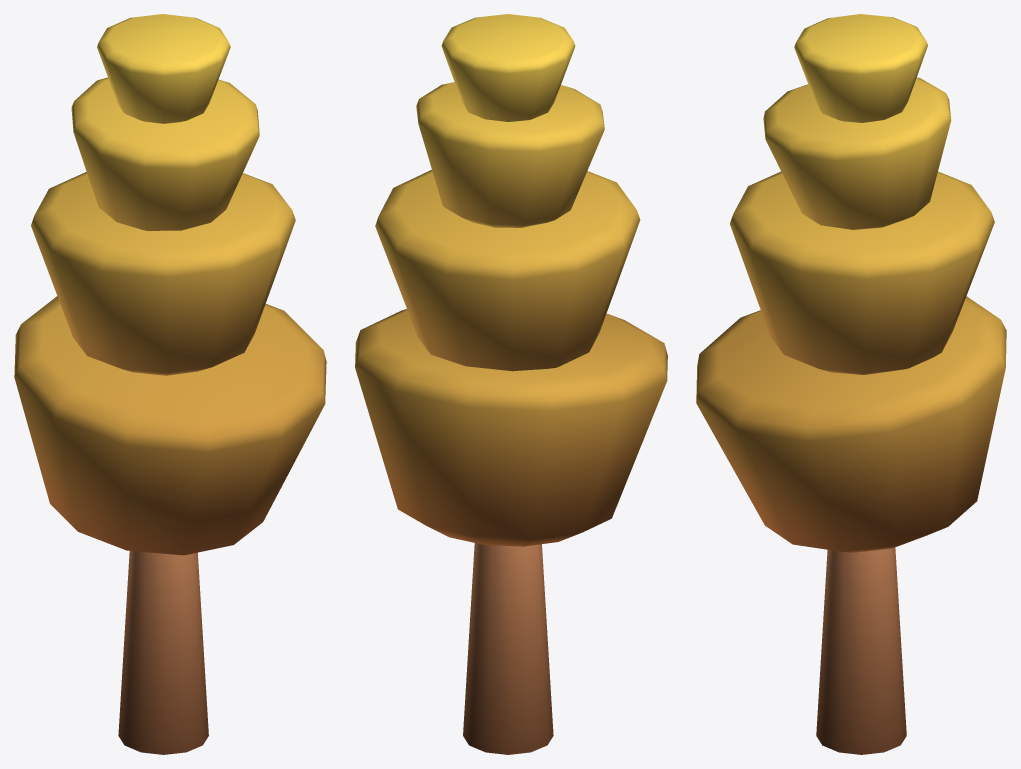
The model's file is lpb_tree_5_c.fbx.
3 renders of one model, left to right at view 1: azimuth 30°, elevation 25°; view 2: azimuth 150°, elevation 25°; view 3: azimuth 270°, elevation 25°, orthographic.
Visible parts, largest first — view 1: ap_tree_5.002; view 2: ap_tree_5.002; view 3: ap_tree_5.002.
Boxes of the visible parts, <box> form: ap_tree_5.002: <box>14,14,326,754</box>; ap_tree_5.002: <box>355,14,667,754</box>; ap_tree_5.002: <box>696,14,1006,754</box>.
Size of the model in its own units: 222 by 546 by 220.
